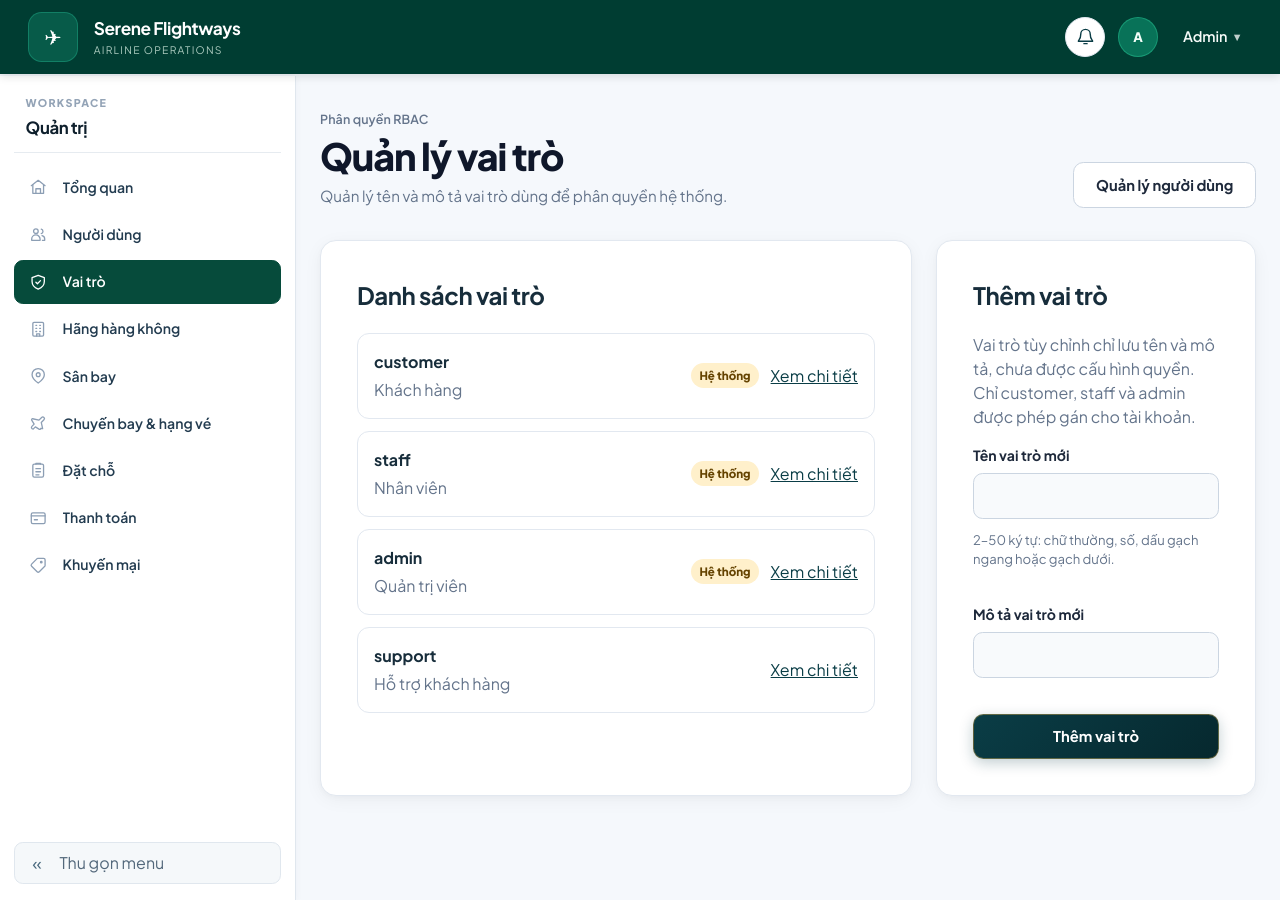
Test: admin role management › validates role names using the API format before creating
Expected: the text "customer" is shown, [374, 351, 449, 372]
Type "support lead" into the field labelled "Tên vai trò mới" at (1096, 496), box [973, 473, 1219, 519]
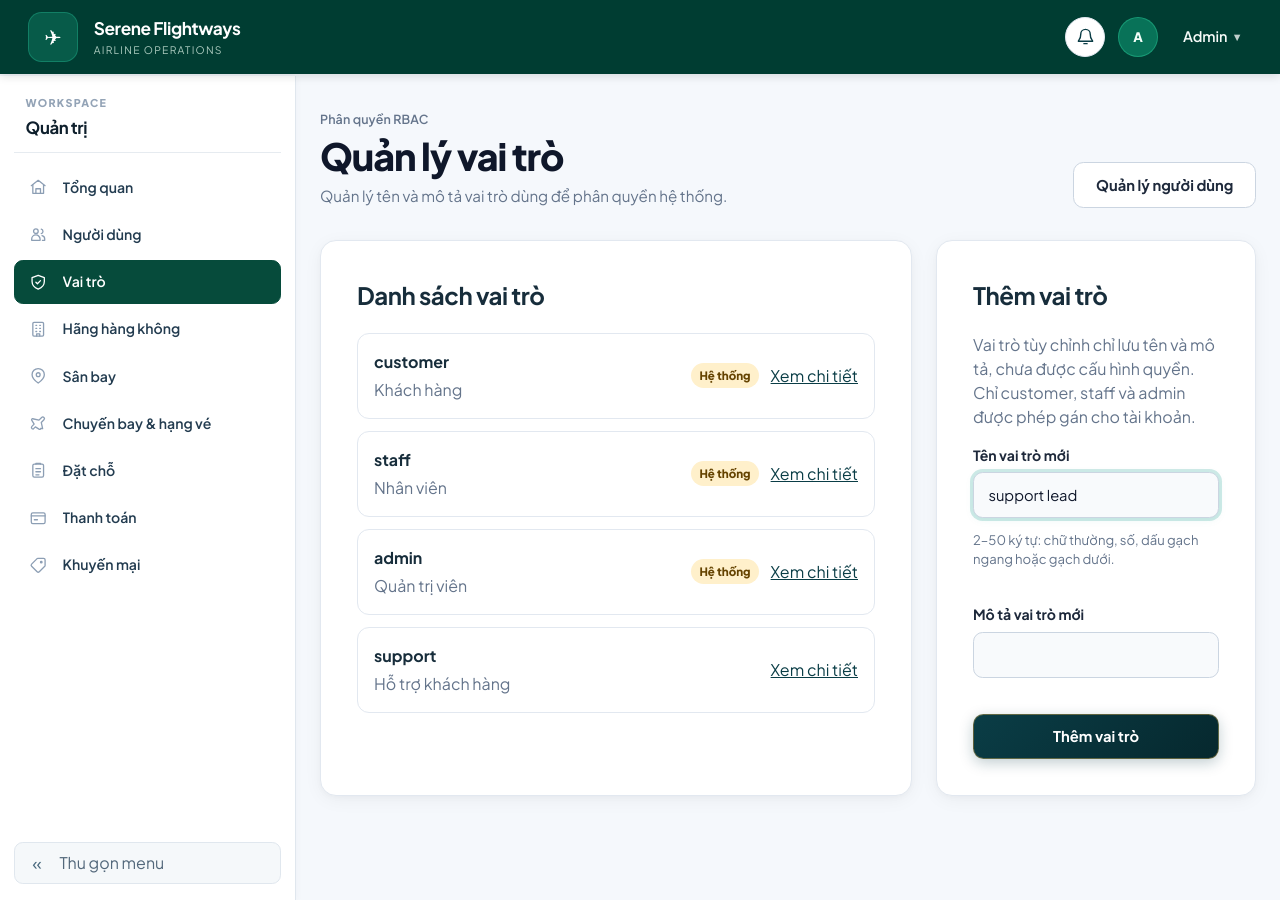
Click the button "Thêm vai trò" at (1096, 737), box [973, 714, 1219, 759]
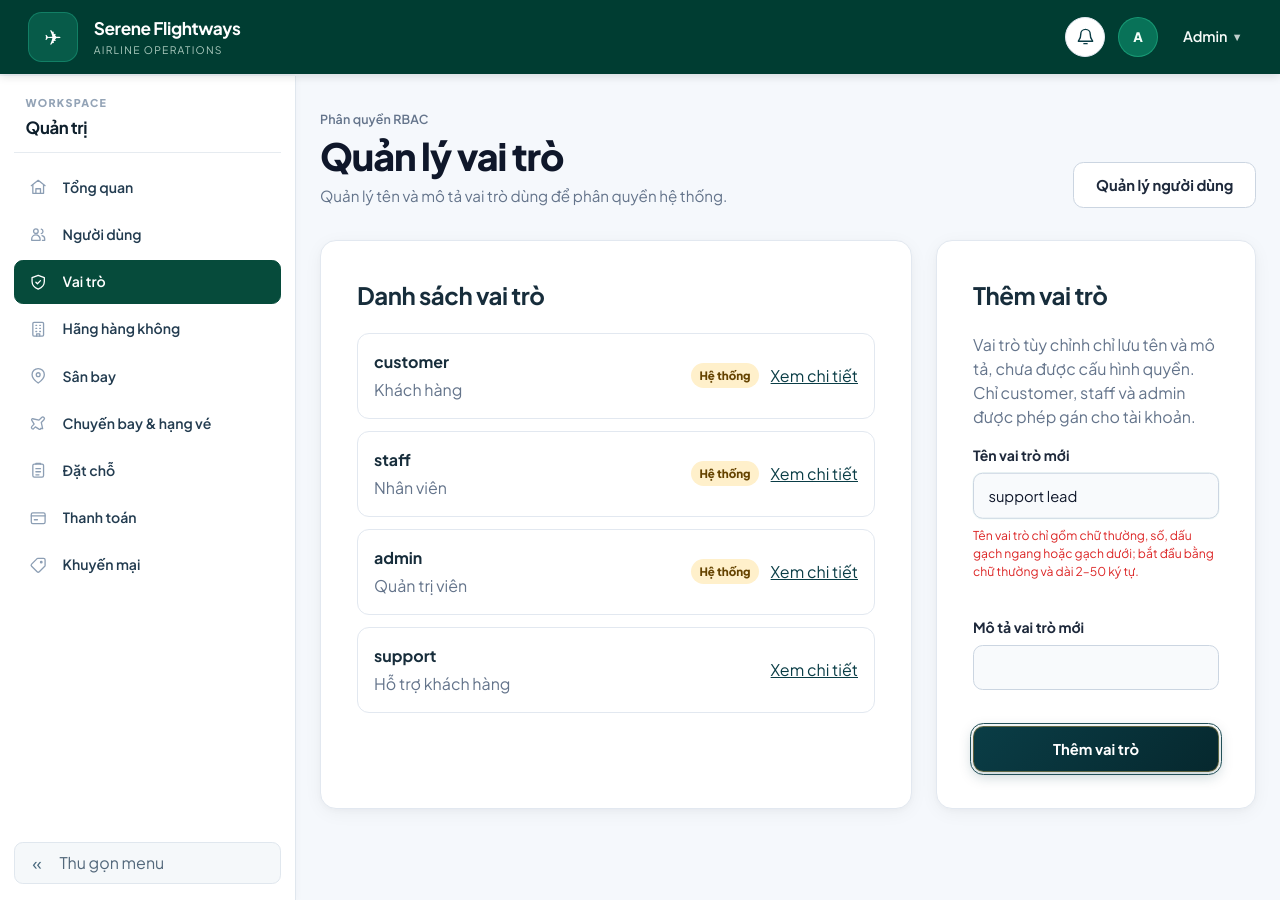
Expected: the text "Tên vai trò chỉ gồm chữ thường, số, dấu gạch ngang hoặc gạch dưới; bắt đầu bằng chữ thường và dài 2–50 ký tự." is shown, [973, 527, 1214, 579]
